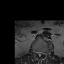CCS_normal: (38, 49, 40, 58)
LFS_stenosis: (42, 50, 44, 55)
LLS_normal: (40, 50, 42, 56)
RFS_normal: (34, 48, 36, 55)
RLS_normal: (36, 49, 38, 55)
